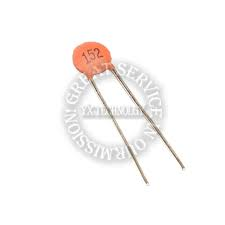ceramic capacitor: (50, 31, 125, 84)
